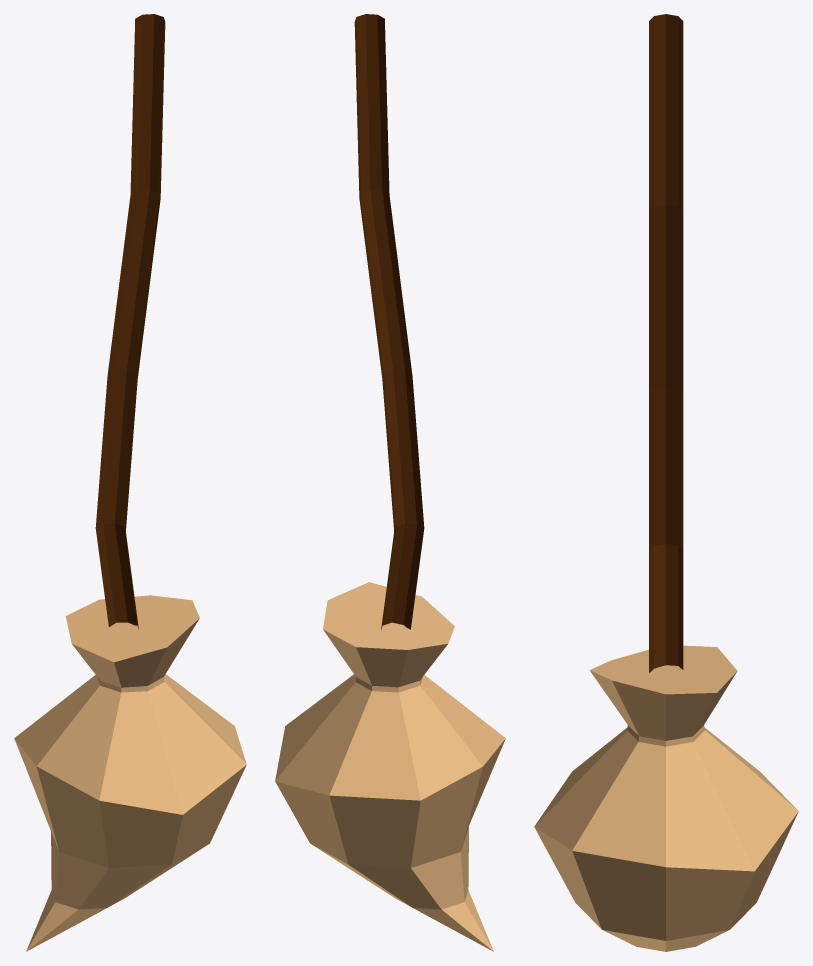
File: escoba bruja.fbx
The picture shows the model from 3 angles, left to right: view 1: azimuth 30°, elevation 25°; view 2: azimuth 150°, elevation 25°; view 3: azimuth 270°, elevation 25°; orthographic projection. The views are drawn at different scales.
Visible parts, largest first — view 1: Cylinder.004; view 2: Cylinder.004; view 3: Cylinder.004.
Part boxes in pixels (x1,y1,x2,y2): Cylinder.004: (14, 14, 246, 951); Cylinder.004: (275, 14, 505, 951); Cylinder.004: (534, 14, 798, 951).
Bounding box in the file's own units: 206 × 848 × 205.
